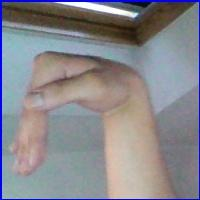del: (8, 49, 123, 182)
